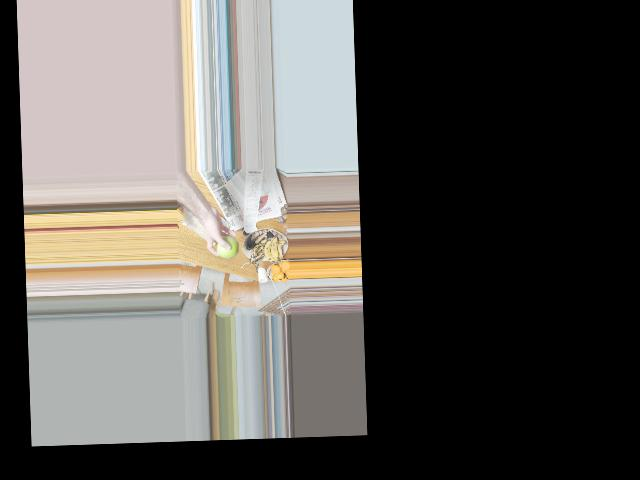apple: (215, 234, 239, 259)
